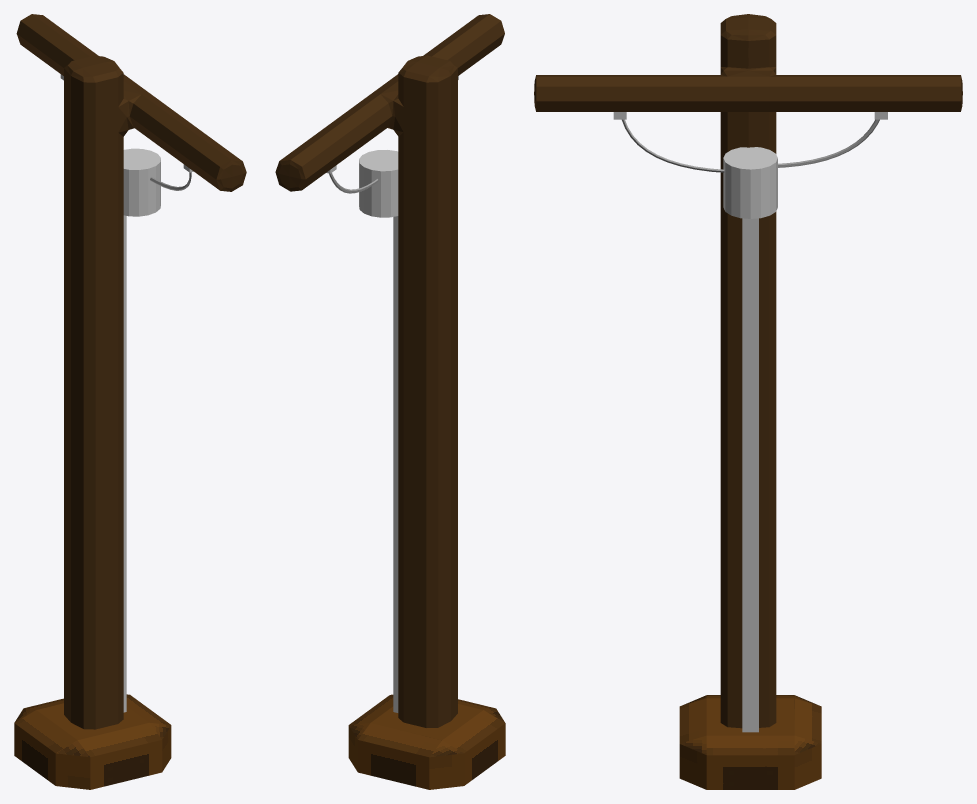
Rendered from UtilityPole.obj.
3 renders of one model, left to right at view 1: azimuth 30°, elevation 25°; view 2: azimuth 150°, elevation 25°; view 3: azimuth 270°, elevation 25°, orthographic. The views are drawn at different scales.
Visible parts, largest first — view 1: main, foot, transformer; view 2: main, foot, transformer; view 3: main, transformer, foot, cables.
Boxes of the visible parts, x1=… form: main: x1=16, y1=14, x2=246, y2=729; foot: x1=14, y1=694, x2=171, y2=789; transformer: x1=123, y1=148, x2=160, y2=712; main: x1=275, y1=14, x2=504, y2=727; foot: x1=348, y1=694, x2=505, y2=789; transformer: x1=359, y1=150, x2=398, y2=712; main: x1=534, y1=14, x2=962, y2=728; transformer: x1=723, y1=147, x2=777, y2=732; foot: x1=679, y1=695, x2=821, y2=789; cables: x1=622, y1=119, x2=879, y2=172.
Bounding box in the file's own units: 0.8096 × 4.4 × 2.3.
Materials: 4 (2 with a texture image).
